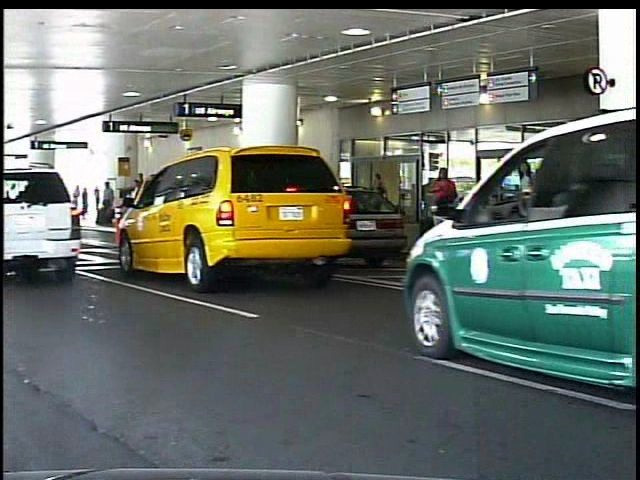person: (432, 166, 464, 252), (372, 170, 394, 230), (103, 179, 120, 230), (83, 186, 93, 215)
